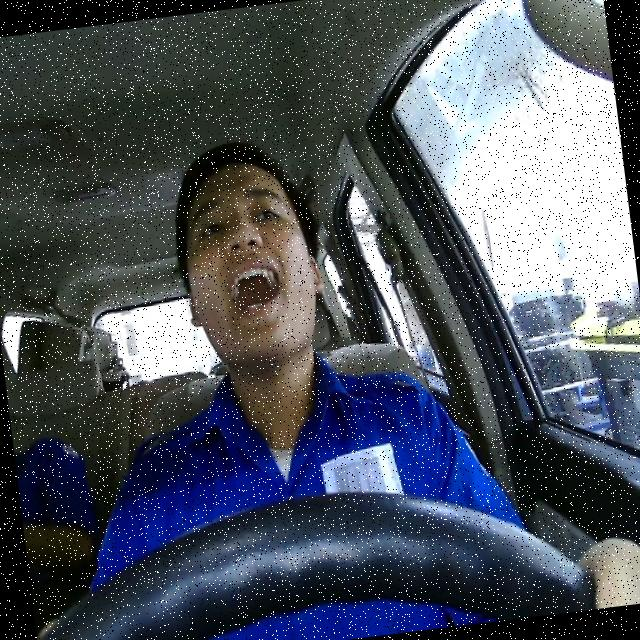yarning: (172, 156, 332, 378)
